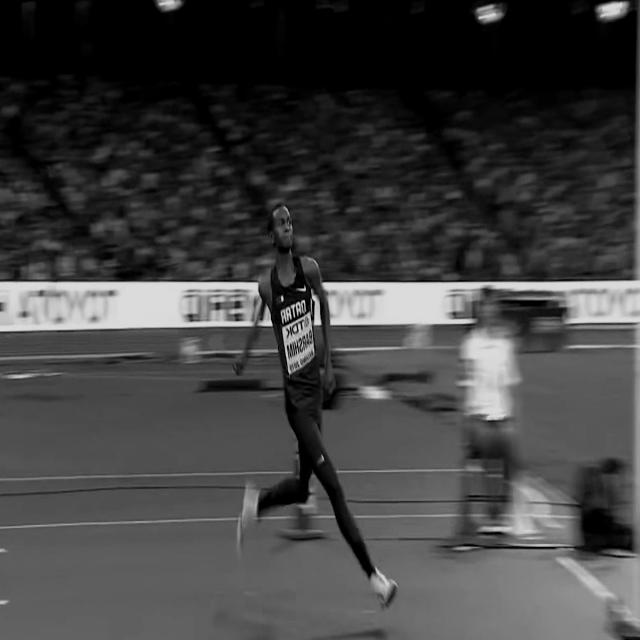run: (231, 194, 397, 610)
